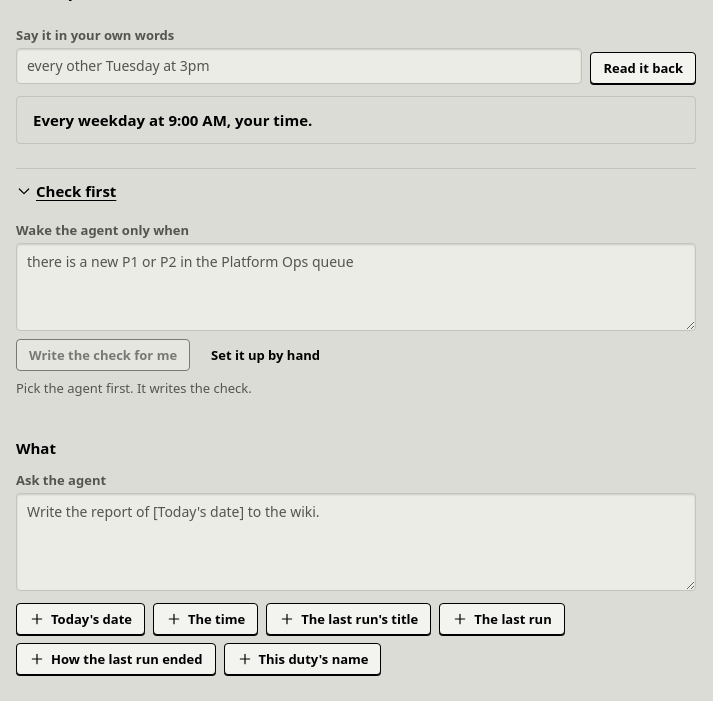
Test: what the front serves › offers no event, no other action, and no other look when the front serves none
(page scrolled)
What coordinates should you click on to do the following:
click the button "Set it up by hand"
I would click on:
 (266, 355)
Its box is [198, 339, 333, 371].
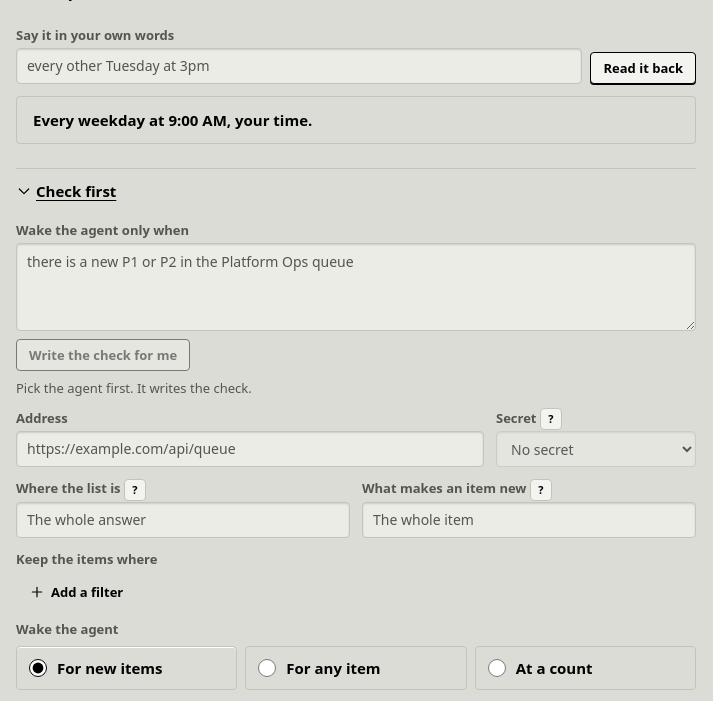
Check: the field labelled "Address" is shown, box [16, 431, 484, 467]
